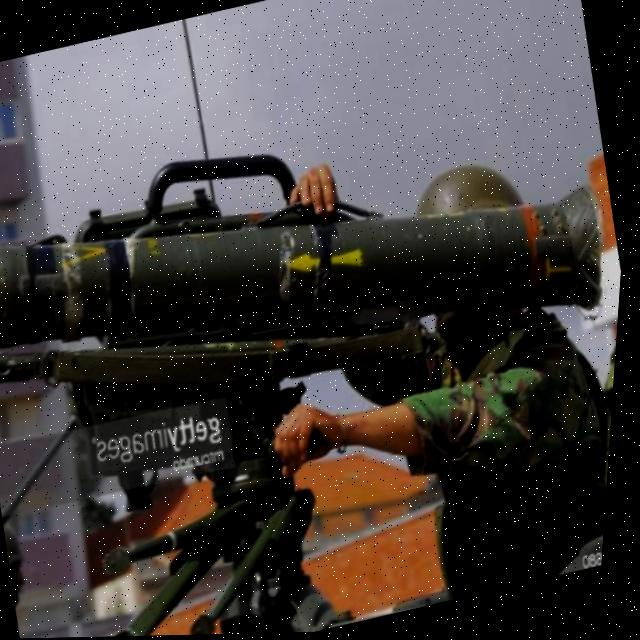rocket: (0, 107, 628, 449)
